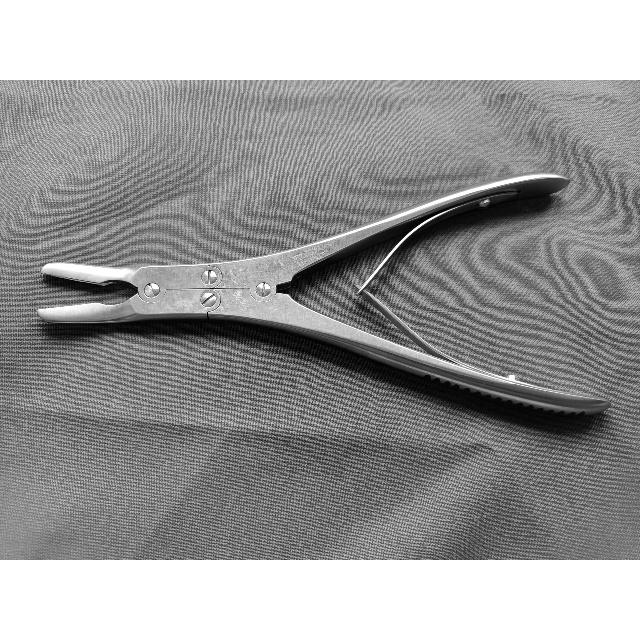gubia: (37, 174, 609, 418)
